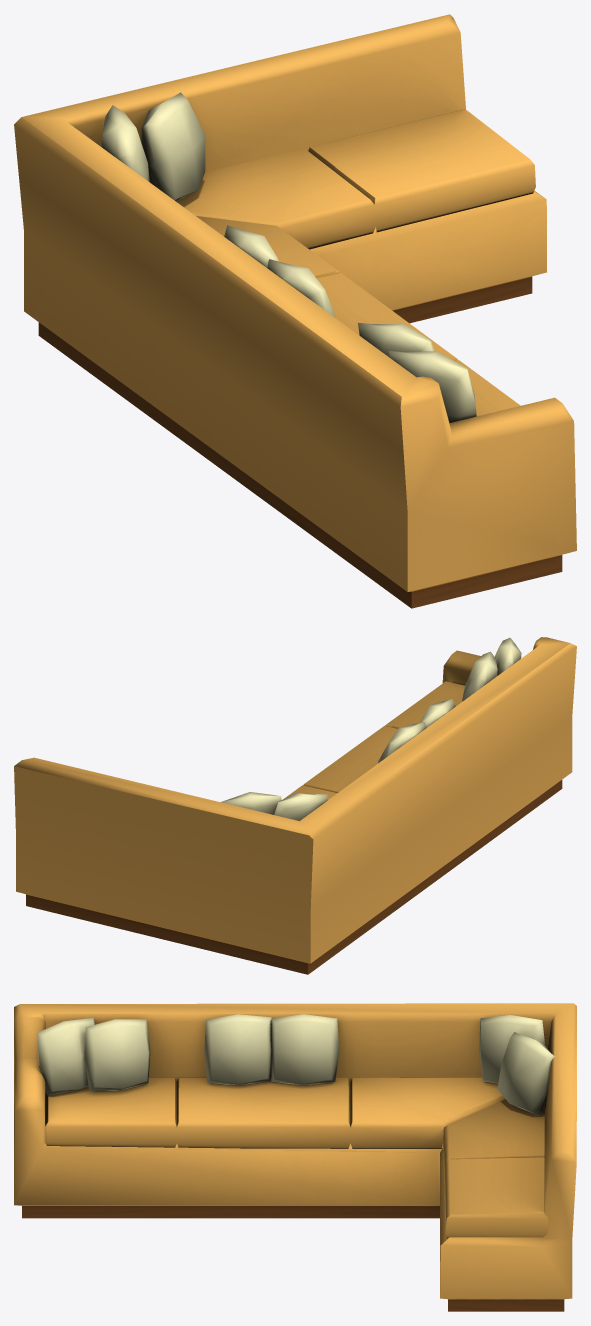
Rendered from CornerSofa.fbx.
3 views of the same model, one above another, from view 1: azimuth 30°, elevation 25°; view 2: azimuth 150°, elevation 25°; view 3: azimuth 270°, elevation 25° (orthographic). The views are drawn at different scales.
Visible parts, largest first — view 1: CornerSofa; view 2: CornerSofa; view 3: CornerSofa.
Boxes of the visible parts, x1,y1,x2,y2 form: CornerSofa: [14, 14, 576, 608]; CornerSofa: [14, 637, 576, 974]; CornerSofa: [14, 1003, 576, 1311].
Bounding box in the file's own units: 152 × 232 × 75.13.
